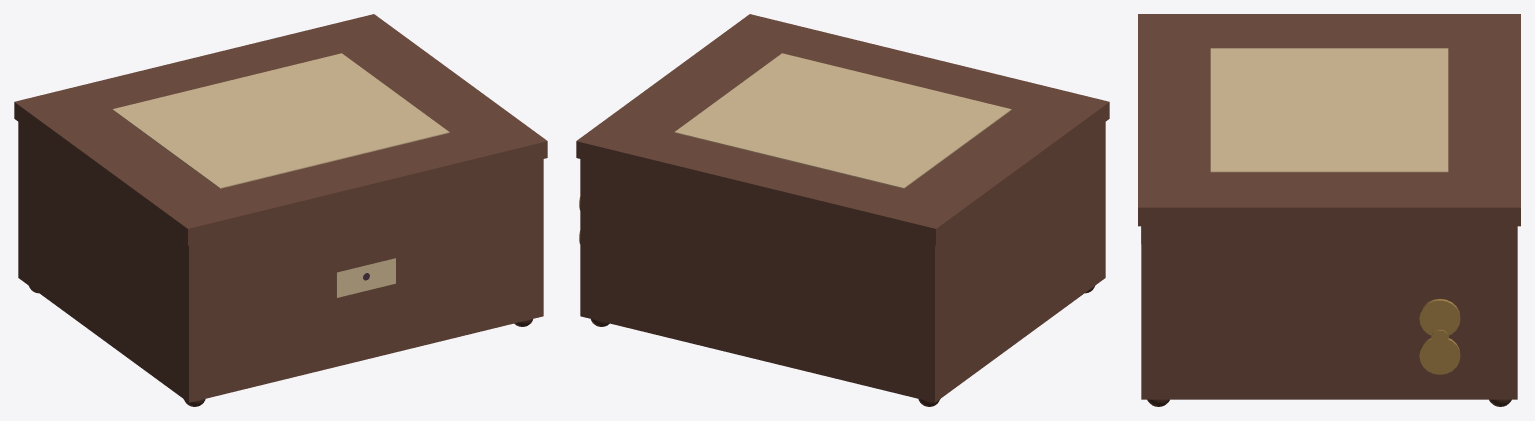
The model's file is orgel_umiwatari.fbx.
3 views of the same model, side by side, from view 1: azimuth 30°, elevation 25°; view 2: azimuth 150°, elevation 25°; view 3: azimuth 270°, elevation 25° (orthographic). The views are drawn at different scales.
Visible parts, largest first — view 1: Box_Front, Lid_Top, Lid_Inlay, Box_Left, Box_Bottom, Nameplate, Box_Back; view 2: Box_Back, Lid_Top, Lid_Inlay, Box_Left, Box_Bottom, Box_Front; view 3: Box_Right, Lid_Top, Lid_Inlay, Box_Bottom, Box_Front, Box_Back, WindKey_Wing_U, WindKey_Wing_D.
Boxes of the visible parts, x1,y1,x2,y2 form: Box_Front: (181, 159, 543, 393); Lid_Top: (14, 14, 547, 245); Lid_Inlay: (112, 53, 449, 188); Box_Left: (26, 128, 181, 389); Box_Bottom: (18, 264, 543, 402); Nameplate: (336, 258, 395, 297); Box_Back: (18, 122, 26, 276); Box_Back: (580, 159, 942, 395); Lid_Top: (576, 14, 1109, 245); Lid_Inlay: (674, 53, 1011, 188); Box_Left: (942, 128, 1097, 389); Box_Bottom: (580, 264, 1105, 402); Box_Front: (1097, 122, 1105, 276); Box_Right: (1158, 226, 1500, 391); Lid_Top: (1138, 14, 1520, 226); Lid_Inlay: (1210, 48, 1448, 172); Box_Bottom: (1141, 384, 1517, 399); Box_Front: (1141, 226, 1158, 391); Box_Back: (1500, 226, 1517, 389); WindKey_Wing_U: (1419, 299, 1460, 335); WindKey_Wing_D: (1419, 338, 1460, 374).
Size of the model in its own units: 0.287 by 0.1342 by 0.224.
